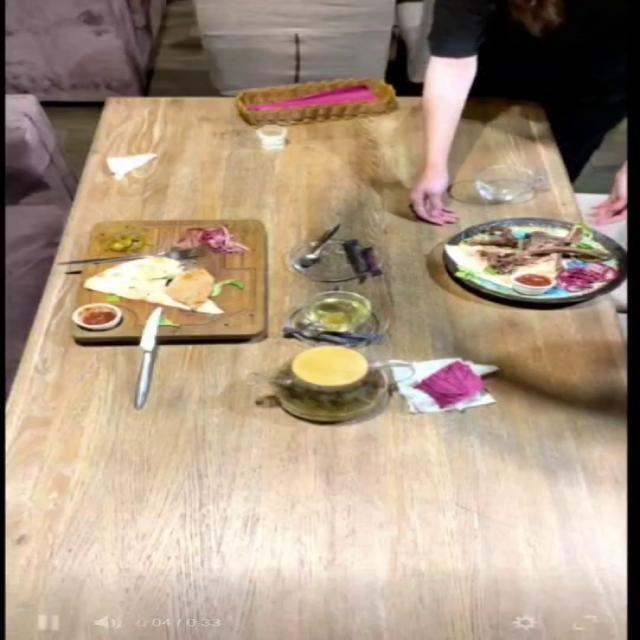meat: (417, 220, 640, 318)
tea: (281, 348, 432, 423)
